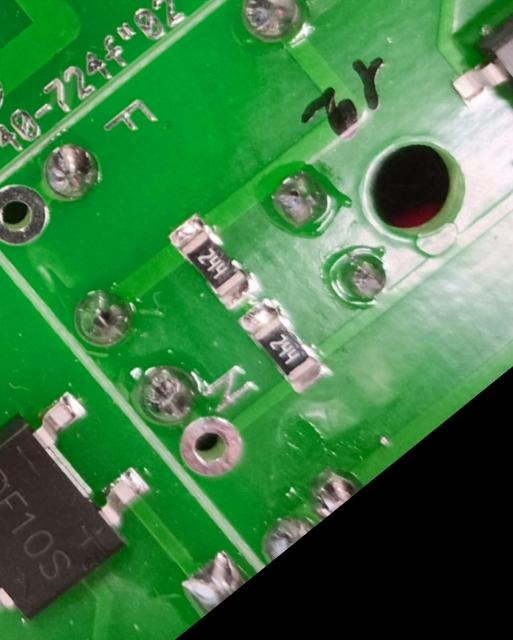chip-resistor: (233, 293, 334, 402), (160, 210, 259, 318)
ic: (0, 372, 174, 640), (427, 0, 513, 216)
